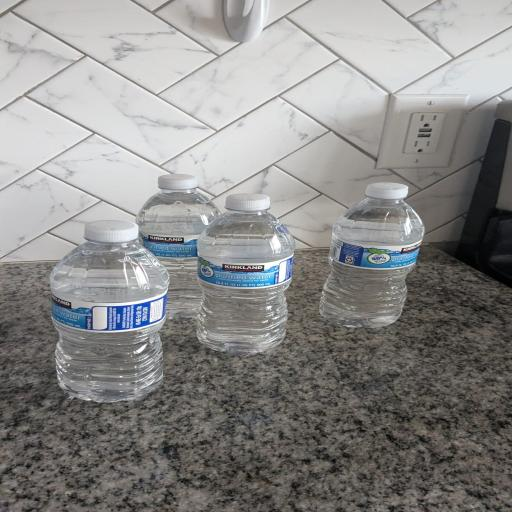waterbottle: (51, 221, 168, 402), (197, 195, 294, 354), (320, 183, 424, 327), (137, 174, 219, 319)
